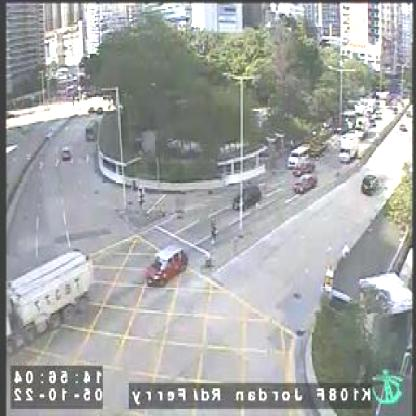Car: (146, 246, 188, 288), (235, 184, 265, 213), (284, 144, 310, 168), (295, 175, 317, 198), (363, 173, 381, 196), (294, 159, 314, 177), (62, 146, 73, 160)
Minibus: (86, 119, 99, 140)
Truck: (8, 246, 95, 354), (342, 134, 361, 161)
